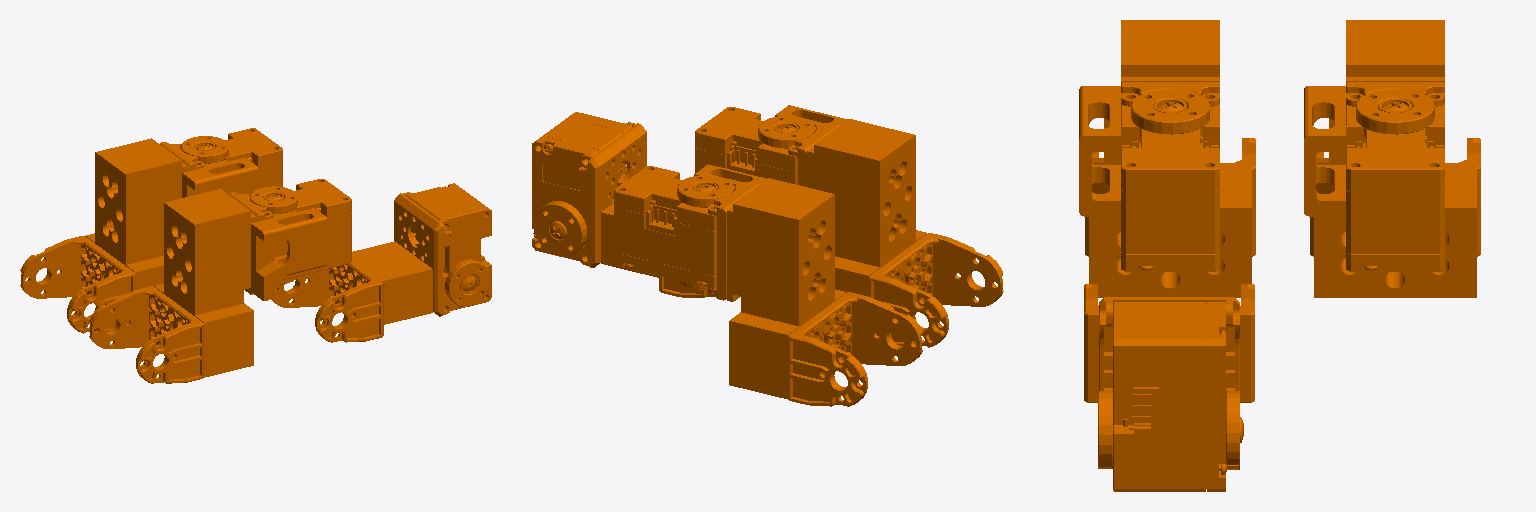
URDF robot description (onshape):
<robot name="onshape">
  <link name="palm_lower">
    <inertial>
      <origin xyz="0.0 0.0 0.0" rpy="0.0 -0.0 0.0"/>
      <mass value="0.237"/>
      <inertia ixx="0.000354094" ixy="-1.193e-06" ixz="-2.445e-06" iyy="0.000260915" iyz="-2.905e-06" izz="0.000529257"/>
    </inertial>
    <visual>
      <geometry>
        <mesh filename="../assets/leap/leap_hand/palm_lower.stl"/>
      </geometry>
      <origin xyz="-0.020095249652862544 0.025757756134899473 -0.034722403578460216" rpy="0.0 -0.0 0.0"/>
      <material name="palm_lower_material">
        <color rgba="0.6039215686274509 0.14901960784313725 0.14901960784313725 1.0"/>
      </material>
    </visual>
    <collision>
      <geometry>
        <mesh filename="../assets/leap/leap_hand/palm_lower.stl"/>
      </geometry>
      <origin xyz="-0.020095249652862544 0.025757756134899473 -0.034722403578460216" rpy="0.0 -0.0 0.0"/>
    </collision>
  </link>
  <link name="mcp_joint">
    <inertial>
      <origin xyz="0.0 0.0 0.0" rpy="0.0 -0.0 0.0"/>
      <mass value="0.044"/>
      <inertia ixx="1.1499e-05" ixy="3.049e-06" ixz="1.21e-07" iyy="7.796e-06" iyz="1.12e-07" izz="1.4759e-05"/>
    </inertial>
    <visual>
      <geometry>
        <mesh filename="../assets/leap/leap_hand/mcp_joint.stl"/>
      </geometry>
      <origin xyz="0.008406902261174496 0.0077662438597169954 0.014657354985032912" rpy="1.6375789613221e-15 -1.021047330249102e-30 1.7177968783327987e-31"/>
      <material name="mcp_joint_material">
        <color rgba="0.8666666666666667 0.8666666666666667 0.050980392156862744 1.0"/>
      </material>
    </visual>
    <collision>
      <geometry>
        <mesh filename="../assets/leap/leap_hand/mcp_joint.stl"/>
      </geometry>
      <origin xyz="0.008406902261174496 0.0077662438597169954 0.014657354985032912" rpy="1.6375789613221e-15 -1.021047330249102e-30 1.7177968783327987e-31"/>
    </collision>
  </link>
  <link name="pip">
    <inertial>
      <origin xyz="0.0 0.0 0.0" rpy="0.0 -0.0 0.0"/>
      <mass value="0.032"/>
      <inertia ixx="4.798e-06" ixy="1.2e-08" ixz="4e-09" iyy="2.862e-06" iyz="1.1e-08" izz="4.234e-06"/>
    </inertial>
    <visual>
      <geometry>
        <mesh filename="../assets/leap/leap_hand/pip.stl"/>
      </geometry>
      <origin xyz="0.009643363092271328 0.0002999999999999895 0.0007840340104173765" rpy="-1.5707963267948966 -1.5707963267948963 0.0"/>
      <material name="pip_material">
        <color rgba="0.7490196078431373 0.7490196078431373 0.7490196078431373 1.0"/>
      </material>
    </visual>
    <collision>
      <geometry>
        <mesh filename="../assets/leap/leap_hand/pip.stl"/>
      </geometry>
      <origin xyz="0.009643363092271328 0.0002999999999999895 0.0007840340104173765" rpy="-1.5707963267948966 -1.5707963267948963 0.0"/>
    </collision>
  </link>
  <link name="dip">
    <inertial>
      <origin xyz="0.0 0.0 0.0" rpy="0.0 -0.0 0.0"/>
      <mass value="0.037"/>
      <inertia ixx="5.542e-06" ixy="-6.07e-07" ixz="-1.7e-08" iyy="5.727e-06" iyz="-2.3e-08" izz="6.682e-06"/>
    </inertial>
    <visual>
      <geometry>
        <mesh filename="../assets/leap/leap_hand/dip.stl"/>
      </geometry>
      <origin xyz="0.021133352895225003 -0.00843211914670488 0.00978508816209524" rpy="-3.141592653589793 4.507511124216441e-32 4.439548105392361e-32"/>
      <material name="dip_material">
        <color rgba="0.8666666666666667 0.8666666666666667 0.050980392156862744 1.0"/>
      </material>
    </visual>
    <collision>
      <geometry>
        <mesh filename="../assets/leap/leap_hand/dip.stl"/>
      </geometry>
      <origin xyz="0.021133352895225003 -0.00843211914670488 0.00978508816209524" rpy="-3.141592653589793 4.507511124216441e-32 4.439548105392361e-32"/>
    </collision>
  </link>
  <link name="fingertip">
    <inertial>
      <origin xyz="0.0 0.0 0.0" rpy="0.0 -0.0 0.0"/>
      <mass value="0.016"/>
      <inertia ixx="3.368e-06" ixy="1.15e-07" ixz="0.0" iyy="1.556e-06" iyz="0.0" izz="2.863e-06"/>
    </inertial>
    <visual>
      <geometry>
        <mesh filename="../assets/leap/leap_hand/fingertip.stl"/>
      </geometry>
      <origin xyz="0.013286424108533503 -0.006114238386541987 0.014499999999999498" rpy="3.141592653589793 1.1993117970061735e-33 4.439548105392361e-32"/>
      <material name="fingertip_material">
        <color rgba="0.8666666666666667 0.8666666666666667 0.050980392156862744 1.0"/>
      </material>
    </visual>
    <collision>
      <geometry>
        <mesh filename="../assets/leap/leap_hand/fingertip.stl"/>
      </geometry>
      <origin xyz="0.013286424108533503 -0.006114238386541987 0.014499999999999498" rpy="3.141592653589793 1.1993117970061735e-33 4.439548105392361e-32"/>
    </collision>
  </link>
  <link name="pip_4">
    <inertial>
      <origin xyz="0.0 0.0 0.0" rpy="0.0 -0.0 0.0"/>
      <mass value="0.032"/>
      <inertia ixx="4.798e-06" ixy="1.2e-08" ixz="4e-09" iyy="2.862e-06" iyz="1.1e-08" izz="4.234e-06"/>
    </inertial>
    <visual>
      <geometry>
        <mesh filename="../assets/leap/leap_hand/pip.stl"/>
      </geometry>
      <origin xyz="-0.005356636907728671 0.0002999999999999999 0.0007840340104173782" rpy="-1.5707963267948966 -1.5707963267948963 0.0"/>
      <material name="pip_material">
        <color rgba="0.7490196078431373 0.7490196078431373 0.7490196078431373 1.0"/>
      </material>
    </visual>
    <collision>
      <geometry>
        <mesh filename="../assets/leap/leap_hand/pip.stl"/>
      </geometry>
      <origin xyz="-0.005356636907728671 0.0002999999999999999 0.0007840340104173782" rpy="-1.5707963267948966 -1.5707963267948963 0.0"/>
    </collision>
  </link>
  <link name="thumb_pip">
    <inertial>
      <origin xyz="0.0 0.0 0.0" rpy="0.0 -0.0 0.0"/>
      <mass value="0.003"/>
      <inertia ixx="5.93e-07" ixy="0.0" ixz="0.0" iyy="5.49e-07" iyz="0.0" izz="2.24e-07"/>
    </inertial>
    <visual>
      <geometry>
        <mesh filename="../assets/leap/leap_hand/thumb_pip.stl"/>
      </geometry>
      <origin xyz="0.011961920770611187 -5.30825383648903e-16 -0.0158526489566642" rpy="1.5707963267948966 1.6050198443300153e-46 -3.9204996250525193e-59"/>
      <material name="thumb_pip_material">
        <color rgba="0.8666666666666667 0.8666666666666667 0.050980392156862744 1.0"/>
      </material>
    </visual>
    <collision>
      <geometry>
        <mesh filename="../assets/leap/leap_hand/thumb_pip.stl"/>
      </geometry>
      <origin xyz="0.011961920770611187 -5.30825383648903e-16 -0.0158526489566642" rpy="1.5707963267948966 1.6050198443300153e-46 -3.9204996250525193e-59"/>
    </collision>
  </link>
  <link name="thumb_dip">
    <inertial>
      <origin xyz="0.0 0.0 0.0" rpy="0.0 -0.0 0.0"/>
      <mass value="0.038"/>
      <inertia ixx="8.474e-06" ixy="2.41e-07" ixz="2.6e-08" iyy="3.841e-06" iyz="2.5e-08" izz="7.679e-06"/>
    </inertial>
    <visual>
      <geometry>
        <mesh filename="../assets/leap/leap_hand/thumb_dip.stl"/>
      </geometry>
      <origin xyz="0.043968715707239175 0.0579529529737092 -0.008628676449369476" rpy="1.94289029309401e-16 3.27515792264422e-15 1.112375852965736e-46"/>
      <material name="thumb_dip_material">
        <color rgba="0.8666666666666667 0.8666666666666667 0.050980392156862744 1.0"/>
      </material>
    </visual>
    <collision>
      <geometry>
        <mesh filename="../assets/leap/leap_hand/thumb_dip.stl"/>
      </geometry>
      <origin xyz="0.043968715707239175 0.0579529529737092 -0.008628676449369476" rpy="1.94289029309401e-16 3.27515792264422e-15 1.112375852965736e-46"/>
    </collision>
  </link>
  <link name="thumb_fingertip">
    <inertial>
      <origin xyz="0.0 0.0 0.0" rpy="0.0 -0.0 0.0"/>
      <mass value="0.049"/>
      <inertia ixx="2.0372e-05" ixy="-4.89e-07" ixz="-3e-08" iyy="4.336e-06" iyz="-9.7e-08" izz="1.9845e-05"/>
    </inertial>
    <visual>
      <geometry>
        <mesh filename="../assets/leap/leap_hand/thumb_fingertip.stl"/>
      </geometry>
      <origin xyz="0.06255953846266739 0.07845968291139699 0.048992911807332215" rpy="4.379057701015637e-47 -3.33066907387547e-16 1.2042408677791935e-46"/>
      <material name="thumb_fingertip_material">
        <color rgba="0.6039215686274509 0.14901960784313725 0.14901960784313725 1.0"/>
      </material>
    </visual>
    <collision>
      <geometry>
        <mesh filename="../assets/leap/leap_hand/thumb_fingertip.stl"/>
      </geometry>
      <origin xyz="0.06255953846266739 0.07845968291139699 0.048992911807332215" rpy="4.379057701015637e-47 -3.33066907387547e-16 1.2042408677791935e-46"/>
    </collision>
  </link>
  <link name="mcp_joint_2_long">
    <inertial>
      <origin xyz="0.0 0.0 0.0" rpy="0.0 -0.0 0.0"/>
      <mass value="0.044"/>
      <inertia ixx="1.1499e-05" ixy="3.049e-06" ixz="1.21e-07" iyy="7.796e-06" iyz="1.12e-07" izz="1.4759e-05"/>
    </inertial>
    <visual>
      <geometry>
        <mesh filename="custom_models/mcp_joint_long.stl"/>
      </geometry>
      <origin xyz="0.008406902261174496 0.0077662438597169954 0.014657354985032914" rpy="1.6375789613221e-15 -1.0076465469034e-30 2.1209300131419907e-61"/>
      <material name="mcp_joint_material">
        <color rgba="0.878 0.467 0.0 1.0"/>
      </material>
    </visual>
    <collision>
      <geometry>
        <mesh filename="custom_models/mcp_joint_long.stl"/>
      </geometry>
      <origin xyz="0.008406902261174496 0.0077662438597169954 0.014657354985032914" rpy="1.6375789613221e-15 -1.0076465469034e-30 2.1209300131419907e-61"/>
    </collision>
  </link>
  <link name="pip_2">
    <inertial>
      <origin xyz="0.0 0.0 0.0" rpy="0.0 -0.0 0.0"/>
      <mass value="0.032"/>
      <inertia ixx="4.798e-06" ixy="1.2e-08" ixz="4e-09" iyy="2.862e-06" iyz="1.1e-08" izz="4.234e-06"/>
    </inertial>
    <visual>
      <geometry>
        <mesh filename="../assets/leap/leap_hand/pip.stl"/>
      </geometry>
      <origin xyz="0.009643363092271328 0.0002999999999999947 0.0007840340104173765" rpy="-1.5707963267948966 -1.5707963267948963 0.0"/>
      <material name="pip_material">
        <color rgba="0.7490196078431373 0.7490196078431373 0.7490196078431373 1.0"/>
      </material>
    </visual>
    <collision>
      <geometry>
        <mesh filename="../assets/leap/leap_hand/pip.stl"/>
      </geometry>
      <origin xyz="0.009643363092271328 0.0002999999999999947 0.0007840340104173765" rpy="-1.5707963267948966 -1.5707963267948963 0.0"/>
    </collision>
  </link>
  <link name="dip_2">
    <inertial>
      <origin xyz="0.0 0.0 0.0" rpy="0.0 -0.0 0.0"/>
      <mass value="0.037"/>
      <inertia ixx="5.542e-06" ixy="-6.07e-07" ixz="-1.7e-08" iyy="5.727e-06" iyz="-2.3e-08" izz="6.682e-06"/>
    </inertial>
    <visual>
      <geometry>
        <mesh filename="../assets/leap/leap_hand/dip.stl"/>
      </geometry>
      <origin xyz="0.021133352895225003 -0.008432119146704865 0.009785088162095237" rpy="-3.141592653589793 2.1146933785271956e-32 1.4408183216511869e-31"/>
      <material name="dip_material">
        <color rgba="0.8666666666666667 0.8666666666666667 0.050980392156862744 1.0"/>
      </material>
    </visual>
    <collision>
      <geometry>
        <mesh filename="../assets/leap/leap_hand/dip.stl"/>
      </geometry>
      <origin xyz="0.021133352895225003 -0.008432119146704865 0.009785088162095237" rpy="-3.141592653589793 2.1146933785271956e-32 1.4408183216511869e-31"/>
    </collision>
  </link>
  <link name="fingertip_2">
    <inertial>
      <origin xyz="0.0 0.0 0.0" rpy="0.0 -0.0 0.0"/>
      <mass value="0.016"/>
      <inertia ixx="3.368e-06" ixy="1.15e-07" ixz="0.0" iyy="1.556e-06" iyz="0.0" izz="2.863e-06"/>
    </inertial>
    <visual>
      <geometry>
        <mesh filename="../assets/leap/leap_hand/fingertip.stl"/>
      </geometry>
      <origin xyz="0.013286424108533496 -0.006114238386542001 0.014499999999999496" rpy="3.141592653589793 -4.317959788283594e-33 1.4408183216511869e-31"/>
      <material name="fingertip_material">
        <color rgba="0.8666666666666667 0.8666666666666667 0.050980392156862744 1.0"/>
      </material>
    </visual>
    <collision>
      <geometry>
        <mesh filename="../assets/leap/leap_hand/fingertip.stl"/>
      </geometry>
      <origin xyz="0.013286424108533496 -0.006114238386542001 0.014499999999999496" rpy="3.141592653589793 -4.317959788283594e-33 1.4408183216511869e-31"/>
    </collision>
  </link>
  <link name="mcp_joint_3_long">
    <inertial>
      <origin xyz="0.0 0.0 0.0" rpy="0.0 -0.0 0.0"/>
      <mass value="0.044"/>
      <inertia ixx="1.1499e-05" ixy="3.049e-06" ixz="1.21e-07" iyy="7.796e-06" iyz="1.12e-07" izz="1.4759e-05"/>
    </inertial>
    <visual>
      <geometry>
        <mesh filename="custom_models/mcp_joint_long.stl"/>
      </geometry>
      <origin xyz="0.0084069022611745 0.007766243859716996 0.014657354985032914" rpy="1.6375789613221e-15 -1.0059504988632627e-30 5.729641584552035e-32"/>
      <material name="mcp_joint_material">
        <color rgba="0.878 0.467 0.0 1.0"/>
      </material>
    </visual>
    <collision>
      <geometry>
        <mesh filename="custom_models/mcp_joint_long.stl"/>
      </geometry>
      <origin xyz="0.0084069022611745 0.007766243859716996 0.014657354985032914" rpy="1.6375789613221e-15 -1.0059504988632627e-30 5.729641584552035e-32"/>
    </collision>
  </link>
  <link name="pip_3">
    <inertial>
      <origin xyz="0.0 0.0 0.0" rpy="0.0 -0.0 0.0"/>
      <mass value="0.032"/>
      <inertia ixx="4.798e-06" ixy="1.2e-08" ixz="4e-09" iyy="2.862e-06" iyz="1.1e-08" izz="4.234e-06"/>
    </inertial>
    <visual>
      <geometry>
        <mesh filename="../assets/leap/leap_hand/pip.stl"/>
      </geometry>
      <origin xyz="0.009643363092271331 0.00029999999999998084 0.0007840340104173765" rpy="-1.5707963267948966 -1.5707963267948963 0.0"/>
      <material name="pip_material">
        <color rgba="0.7490196078431373 0.7490196078431373 0.7490196078431373 1.0"/>
      </material>
    </visual>
    <collision>
      <geometry>
        <mesh filename="../assets/leap/leap_hand/pip.stl"/>
      </geometry>
      <origin xyz="0.009643363092271331 0.00029999999999998084 0.0007840340104173765" rpy="-1.5707963267948966 -1.5707963267948963 0.0"/>
    </collision>
  </link>
  <link name="dip_3_long">
    <inertial>
      <origin xyz="0.0 0.0 0.0" rpy="0.0 -0.0 0.0"/>
      <mass value="0.037"/>
      <inertia ixx="5.542e-06" ixy="-6.07e-07" ixz="-1.7e-08" iyy="5.727e-06" iyz="-2.3e-08" izz="6.682e-06"/>
    </inertial>
    <visual>
      <geometry>
        <mesh filename="custom_models/dip_long.stl"/>
      </geometry>
      <origin xyz="0.021133352895225006 -0.008432119146704865 0.009785088162095237" rpy="-3.141592653589793 -1.4095651113919093e-33 1.5565411607615035e-32"/>
      <material name="dip_material">
        <color rgba="0.878 0.467 0.0 1.0"/>
      </material>
    </visual>
    <collision>
      <geometry>
        <mesh filename="custom_models/dip_long.stl"/>
      </geometry>
      <origin xyz="0.021133352895225006 -0.008432119146704865 0.009785088162095237" rpy="-3.141592653589793 -1.4095651113919093e-33 1.5565411607615035e-32"/>
    </collision>
  </link>
  <link name="fingertip_3">
    <inertial>
      <origin xyz="0.0 0.0 0.0" rpy="0.0 -0.0 0.0"/>
      <mass value="0.016"/>
      <inertia ixx="3.368e-06" ixy="1.15e-07" ixz="0.0" iyy="1.556e-06" iyz="0.0" izz="2.863e-06"/>
    </inertial>
    <visual>
      <geometry>
        <mesh filename="../assets/leap/leap_hand/fingertip.stl"/>
      </geometry>
      <origin xyz="0.013286424108533501 -0.006114238386541987 0.0144999999999995" rpy="3.141592653589793 8.61707169505754e-33 1.5565411607615035e-32"/>
      <material name="fingertip_material">
        <color rgba="0.8666666666666667 0.8666666666666667 0.050980392156862744 1.0"/>
      </material>
    </visual>
    <collision>
      <geometry>
        <mesh filename="../assets/leap/leap_hand/fingertip.stl"/>
      </geometry>
      <origin xyz="0.013286424108533501 -0.006114238386541987 0.0144999999999995" rpy="3.141592653589793 8.61707169505754e-33 1.5565411607615035e-32"/>
    </collision>
  </link>
  <joint name="1" type="revolute">
    <parent link="palm_lower"/>
    <child link="mcp_joint"/>
    <origin xyz="-0.007095249652862546 0.023057756134899472 -0.01872240357846022" rpy="1.570796326794895 1.5707963267948946 0.0"/>
    <axis xyz="0.0 0.0 -1.0"/>
    <limit effort="0.95" velocity="8.48" lower="-0.314" upper="2.23"/>
  </joint>
  <joint name="0" type="revolute">
    <parent link="mcp_joint"/>
    <child link="pip"/>
    <origin xyz="-0.012200000000000008 0.038099999999999995 0.0145" rpy="-1.5707963267948966 -1.0065212660796337e-15 1.5707963267948943"/>
    <axis xyz="0.0 0.0 -1.0"/>
    <limit effort="0.95" velocity="8.48" lower="-1.047" upper="1.047"/>
  </joint>
  <joint name="2" type="revolute">
    <parent link="pip"/>
    <child link="dip"/>
    <origin xyz="0.014999999999999968 0.014299999999999905 -0.012999999999999824" rpy="1.570796326794896 -1.5707963267948963 0.0"/>
    <axis xyz="0.0 0.0 -1.0"/>
    <limit effort="0.95" velocity="8.48" lower="-0.506" upper="1.885"/>
  </joint>
  <joint name="3" type="revolute">
    <parent link="dip"/>
    <child link="fingertip"/>
    <origin xyz="-4.088058249557269e-09 -0.03610000421036737 0.0002000000000000786" rpy="4.5935029425113685e-17 -2.8730071914463795e-16 4.439548105392361e-32"/>
    <axis xyz="0.0 0.0 -1.0"/>
    <limit effort="0.95" velocity="8.48" lower="-0.366" upper="2.042"/>
  </joint>
  <joint name="12" type="revolute">
    <parent link="palm_lower"/>
    <child link="pip_4"/>
    <origin xyz="-0.06939524965286253 -0.0012422438651005258 -0.021622403578460216" rpy="-8.238176646493942e-17 1.5707963267948957 0.0"/>
    <axis xyz="0.0 0.0 -1.0"/>
    <limit effort="0.95" velocity="8.48" lower="-0.349" upper="2.094"/>
  </joint>
  <joint name="13" type="revolute">
    <parent link="pip_4"/>
    <child link="thumb_pip"/>
    <origin xyz="-2.7755575615628914e-17 0.014300000000000005 -0.013000000000000012" rpy="1.570796326794896 -1.5707963267948963 0.0"/>
    <axis xyz="0.0 0.0 -1.0"/>
    <limit effort="0.95" velocity="8.48" lower="-0.47" upper="2.443"/>
  </joint>
  <joint name="14" type="revolute">
    <parent link="thumb_pip"/>
    <child link="thumb_dip"/>
    <origin xyz="0.0 0.014499999999999966 -0.017000000000000053" rpy="-1.5707963267948966 1.6050198443300131e-46 -1.9721522630516625e-31"/>
    <axis xyz="0.0 0.0 -1.0"/>
    <limit effort="0.95" velocity="8.48" lower="-1.2" upper="1.9"/>
  </joint>
  <joint name="15" type="revolute">
    <parent link="thumb_dip"/>
    <child link="thumb_fingertip"/>
    <origin xyz="-1.249000902703301e-16 0.046599999999999864 0.0001999999999999771" rpy="1.506395849149178e-44 5.423418723393526e-31 3.141592653589793"/>
    <axis xyz="0.0 0.0 -1.0"/>
    <limit effort="0.95" velocity="8.48" lower="-1.34" upper="1.88"/>
  </joint>
  <joint name="5" type="revolute">
    <parent link="palm_lower"/>
    <child link="mcp_joint_2_long"/>
    <origin xyz="-0.007095249652862546 -0.022392243865100525 -0.01872240357846022" rpy="1.570796326794895 1.5707963267948946 0.0"/>
    <axis xyz="0.0 0.0 -1.0"/>
    <limit effort="0.95" velocity="8.48" lower="-0.314" upper="2.23"/>
  </joint>
  <joint name="4" type="revolute">
    <parent link="mcp_joint_2_long"/>
    <child link="pip_2"/>
    <origin xyz="-0.012200000000000007713 0.053099999999999994982 0.014500000000000000736" rpy="-1.5707963267948966 -1.0065212660796337e-15 1.5707963267948943"/>
    <axis xyz="0.0 0.0 -1.0"/>
    <limit effort="0.95" velocity="8.48" lower="-1.047" upper="1.047"/>
  </joint>
  <joint name="6" type="revolute">
    <parent link="pip_2"/>
    <child link="dip_2"/>
    <origin xyz="0.014999999999999968 0.014299999999999905 -0.012999999999999824" rpy="1.570796326794896 -1.5707963267948963 0.0"/>
    <axis xyz="0.0 0.0 -1.0"/>
    <limit effort="0.95" velocity="8.48" lower="-0.506" upper="1.885"/>
  </joint>
  <joint name="7" type="revolute">
    <parent link="dip_2"/>
    <child link="fingertip_2"/>
    <origin xyz="-4.088058249557269e-09 -0.03610000421036737 0.0002000000000000786" rpy="4.5935029425113685e-17 -2.8730071914463795e-16 4.439548105392361e-32"/>
    <axis xyz="0.0 0.0 -1.0"/>
    <limit effort="0.95" velocity="8.48" lower="-0.366" upper="2.042"/>
  </joint>
  <joint name="9" type="revolute">
    <parent link="palm_lower"/>
    <child link="mcp_joint_3_long"/>
    <origin xyz="-0.007095249652862546 -0.06784224386510052 -0.01872240357846022" rpy="1.570796326794895 1.5707963267948946 0.0"/>
    <axis xyz="0.0 0.0 -1.0"/>
    <limit effort="0.95" velocity="8.48" lower="-0.314" upper="2.23"/>
  </joint>
  <joint name="8" type="revolute">
    <parent link="mcp_joint_3_long"/>
    <child link="pip_3"/>
    <origin xyz="-0.012200000000000007713 0.053099999999999994982 0.014500000000000000736" rpy="-1.5707963267948966 -1.0065212660796337e-15 1.5707963267948943"/>
    <axis xyz="0.0 0.0 -1.0"/>
    <limit effort="0.95" velocity="8.48" lower="-1.047" upper="1.047"/>
  </joint>
  <joint name="10" type="revolute">
    <parent link="pip_3"/>
    <child link="dip_3_long"/>
    <origin xyz="0.014999999999999968 0.014299999999999905 -0.012999999999999824" rpy="1.570796326794896 -1.5707963267948963 0.0"/>
    <axis xyz="0.0 0.0 -1.0"/>
    <limit effort="0.95" velocity="8.48" lower="-0.506" upper="1.885"/>
  </joint>
  <joint name="11" type="revolute">
    <parent link="dip_3_long"/>
    <child link="fingertip_3"/>
    <origin xyz="-4.0880582495572692636e-09 -0.051100004210367367397 0.00020000000000007858714" rpy="4.5935029425113685e-17 -2.8730071914463795e-16 4.439548105392361e-32"/>
    <axis xyz="0.0 0.0 -1.0"/>
    <limit effort="0.95" velocity="8.48" lower="-0.366" upper="2.042"/>
  </joint>
</robot>

--- Facts derived from the render (not from the file) ---
3 views of the same robot in one strip: view 1: azimuth 30°, elevation 25°; view 2: azimuth 150°, elevation 25°; view 3: azimuth 270°, elevation 25° (orthographic).
Robot: onshape — 17 links, 16 joints (16 revolute); root link palm_lower; default pose: all joints at 0.
Visible links, largest first — view 1: mcp_joint_3_long, mcp_joint_2_long, dip_3_long; view 2: mcp_joint_2_long, mcp_joint_3_long, dip_3_long; view 3: mcp_joint_2_long, mcp_joint_3_long, dip_3_long.
Link boxes in pixels (<box>): mcp_joint_3_long: <box>89,179,351,383</box>; mcp_joint_2_long: <box>20,128,282,333</box>; dip_3_long: <box>271,183,491,342</box>; mcp_joint_2_long: <box>614,164,922,406</box>; mcp_joint_3_long: <box>695,105,1003,347</box>; dip_3_long: <box>532,112,716,297</box>; mcp_joint_2_long: <box>1304,20,1480,297</box>; mcp_joint_3_long: <box>1079,20,1255,297</box>; dip_3_long: <box>1084,284,1254,491</box>.
Bounding box of the posed robot: 0.1371 × 0.0812 × 0.0538 m (x, y, z).
Meshes: 10 distinct files referenced, 3 mesh visuals loaded (2 binary STL); not drawn: 14 (reference not matched to a file when rendering).